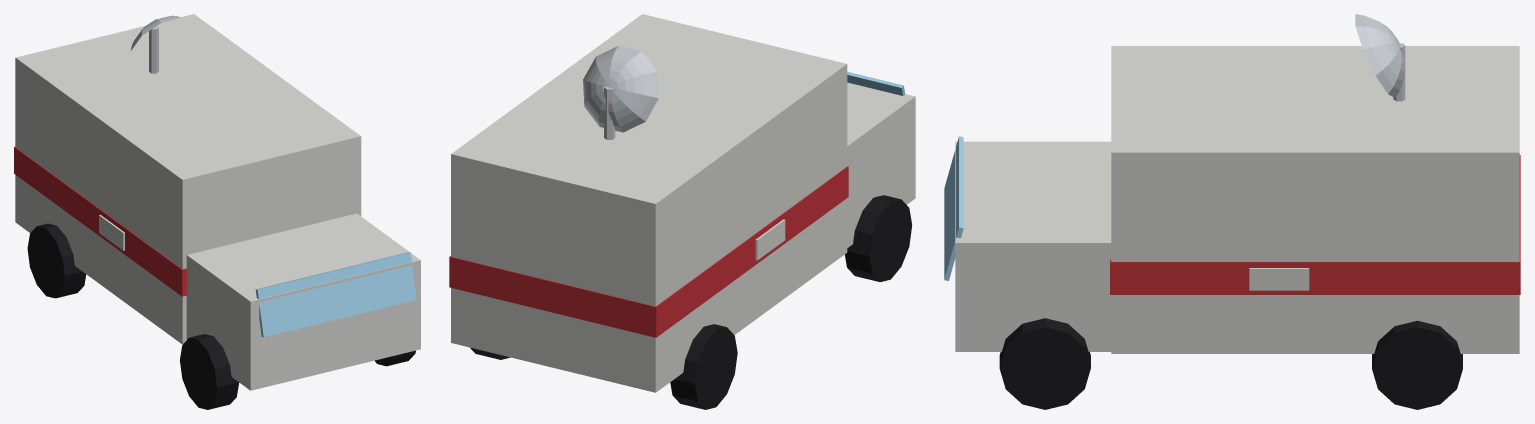
File: tv_van.glb
3 views of the same model, side by side, from view 1: azimuth 30°, elevation 25°; view 2: azimuth 150°, elevation 25°; view 3: azimuth 270°, elevation 25° (orthographic). The views are drawn at different scales.
Parts seen in each view (by area): view 1: body_tv_van_white, glass_car_glass, wheels_tire (×2), stripe_tv_red, logo_tv_van_white, mast_tv_dish; view 2: body_tv_van_white, stripe_tv_red, wheels_tire (×2), dish_tv_dish, logo_tv_van_white, glass_car_glass; view 3: body_tv_van_white, wheels_tire (×2), stripe_tv_red, dish_tv_dish, glass_car_glass, logo_tv_van_white.
Boxes of the visible parts, <box> form: body_tv_van_white: <box>15,14,420,390</box>; glass_car_glass: <box>255,252,416,337</box>; wheels_tire (×2): <box>27,223,239,409</box>; stripe_tv_red: <box>14,147,187,296</box>; logo_tv_van_white: <box>99,215,124,250</box>; mast_tv_dish: <box>149,26,158,73</box>; body_tv_van_white: <box>451,14,915,392</box>; stripe_tv_red: <box>449,166,848,337</box>; wheels_tire (×2): <box>670,195,912,409</box>; dish_tv_dish: <box>583,45,658,132</box>; logo_tv_van_white: <box>755,219,785,260</box>; glass_car_glass: <box>847,71,905,95</box>; body_tv_van_white: <box>955,46,1519,353</box>; wheels_tire (×2): <box>999,318,1462,409</box>; stripe_tv_red: <box>1110,155,1520,294</box>; dish_tv_dish: <box>1355,14,1404,97</box>; glass_car_glass: <box>944,136,963,280</box>; logo_tv_van_white: <box>1249,268,1309,290</box>.
Size of the model in its own units: 2.36 by 3.03 by 4.8.
